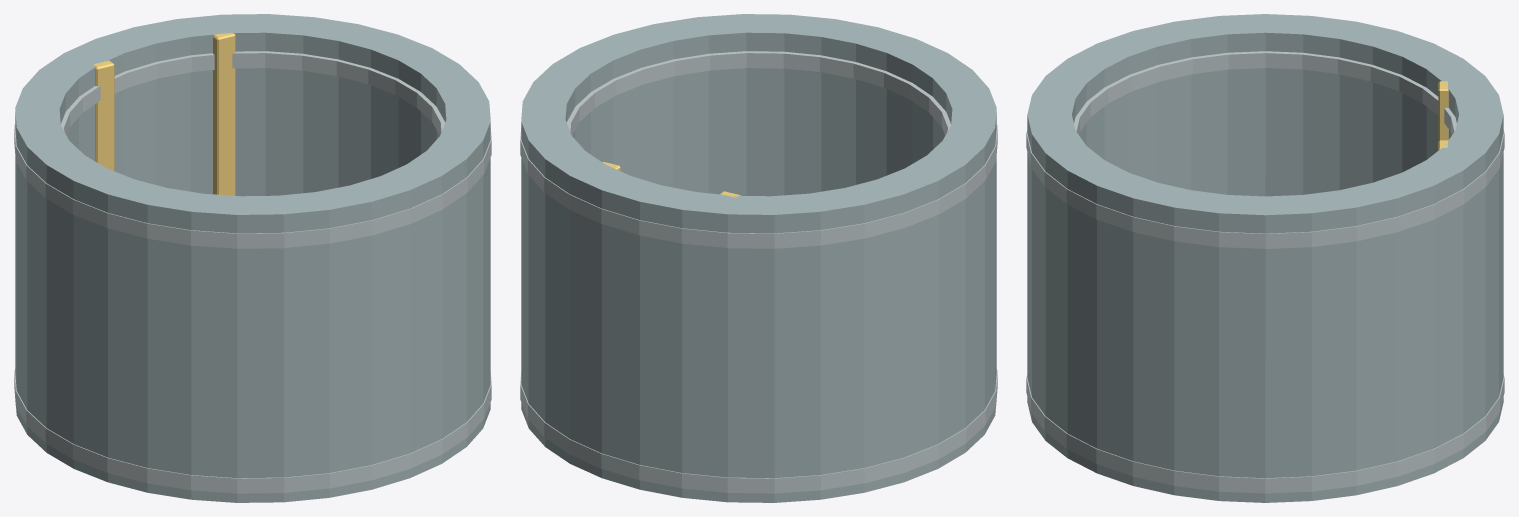
The model's file is Structure-SewerShaft.fbx.
3 renders of one model, left to right at view 1: azimuth 30°, elevation 25°; view 2: azimuth 150°, elevation 25°; view 3: azimuth 270°, elevation 25°, orthographic.
Visible parts, largest first — view 1: Shaft Lining, Lining Joint.001, Lining Joint, Slide Guide.001, Slide Guide; view 2: Shaft Lining, Lining Joint.001, Lining Joint; view 3: Shaft Lining, Lining Joint.001, Lining Joint, Slide Guide.
Part boxes in pixels (x1,y1,x2,y2): Shaft Lining: [15, 14, 490, 502]; Lining Joint.001: [14, 51, 491, 248]; Lining Joint: [14, 369, 491, 493]; Slide Guide.001: [213, 32, 235, 195]; Slide Guide: [93, 60, 114, 171]; Shaft Lining: [521, 14, 996, 502]; Lining Joint.001: [520, 51, 997, 248]; Lining Joint: [520, 369, 997, 493]; Shaft Lining: [1027, 14, 1503, 502]; Lining Joint.001: [1026, 51, 1504, 248]; Lining Joint: [1026, 374, 1504, 493]; Slide Guide: [1438, 81, 1448, 141].
Size of the model in its own units: 1.51 by 1 by 1.51.
